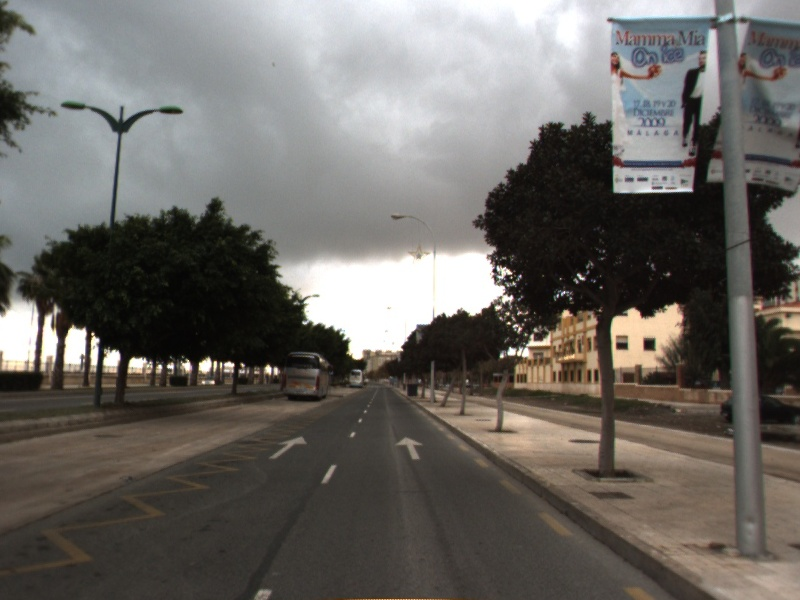STRAIGHT: (266, 434, 310, 461), (393, 434, 427, 461)
